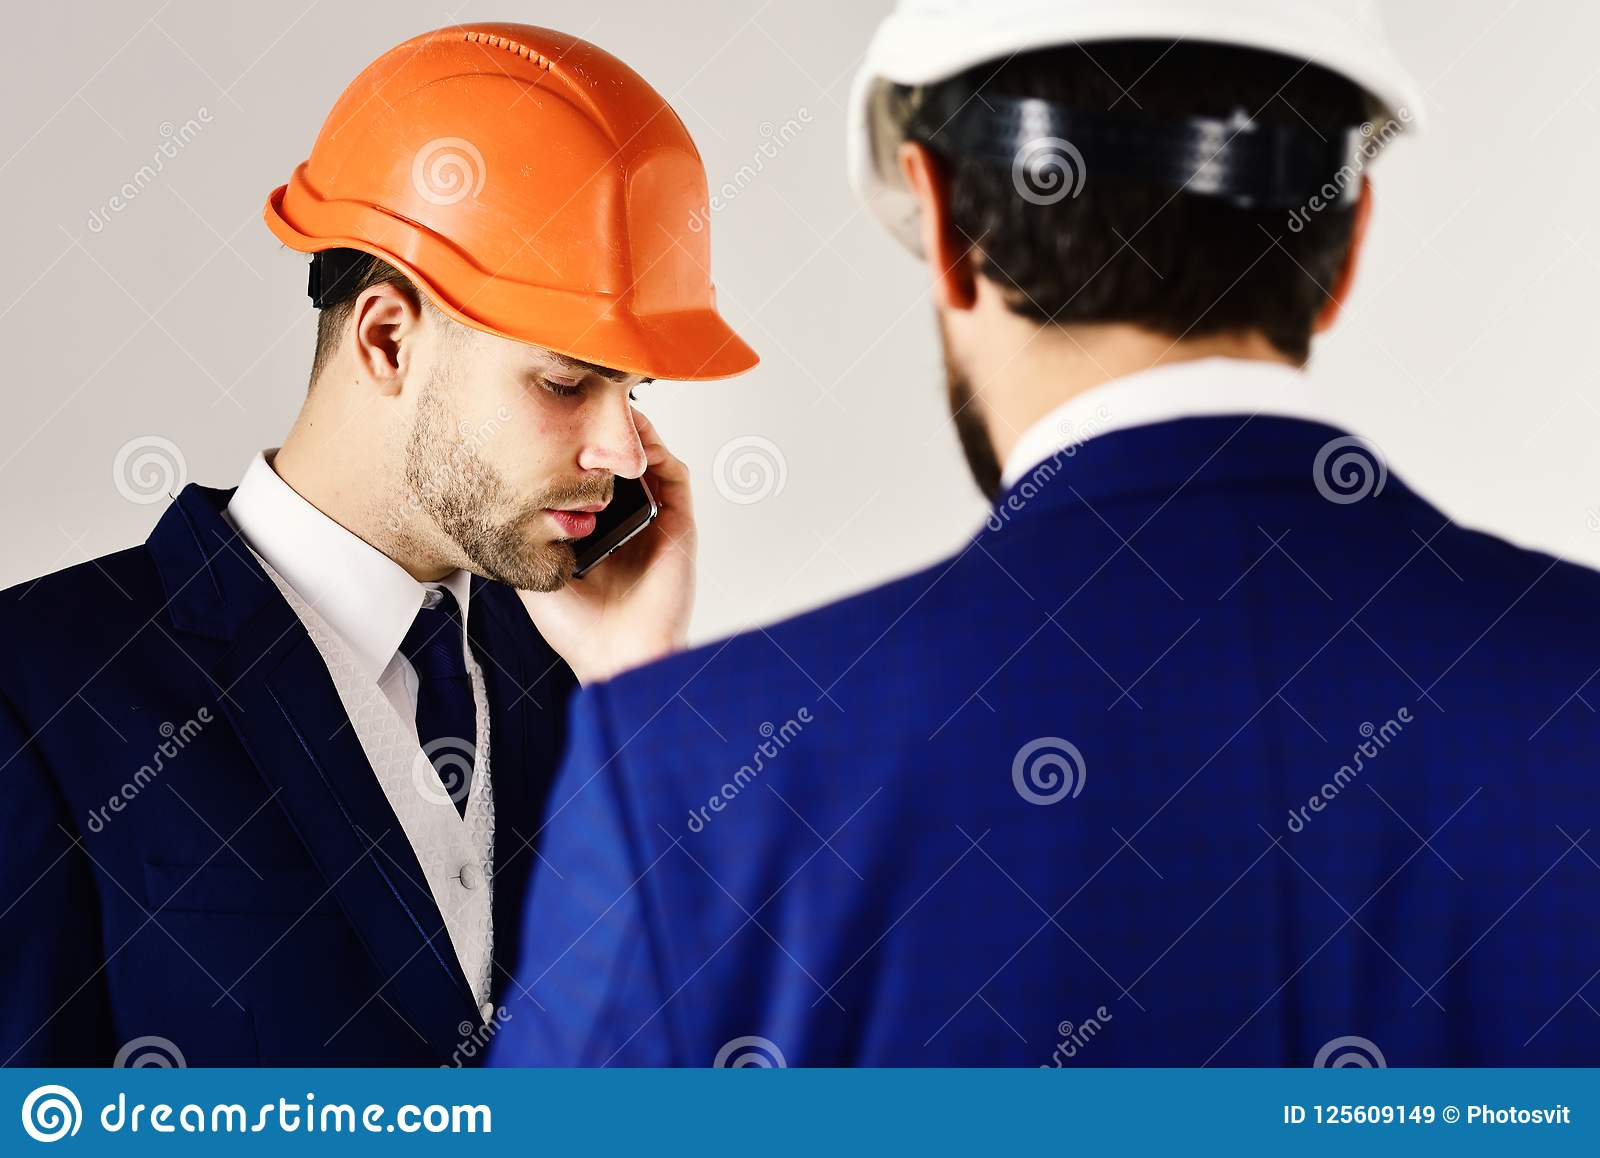casco: (261, 17, 763, 385), (841, 1, 1425, 272)
